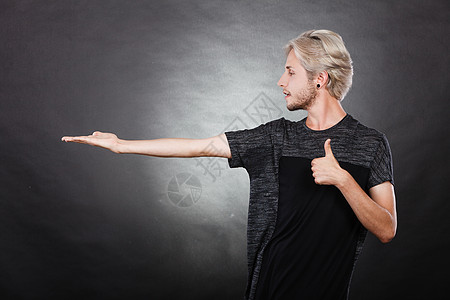no-phone: (55, 116, 133, 165), (303, 135, 352, 195)
